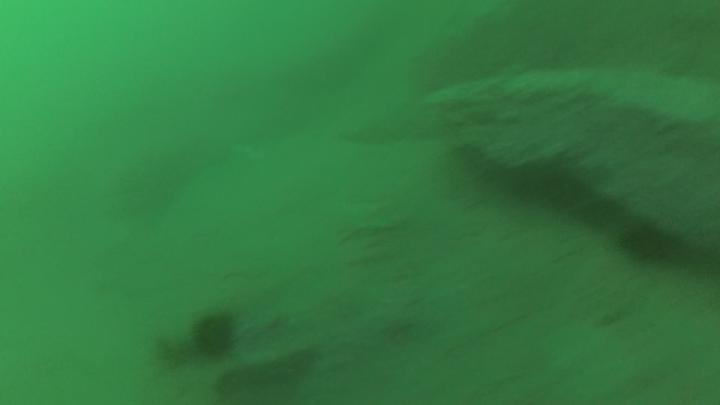echinus: (184, 309, 237, 364)
